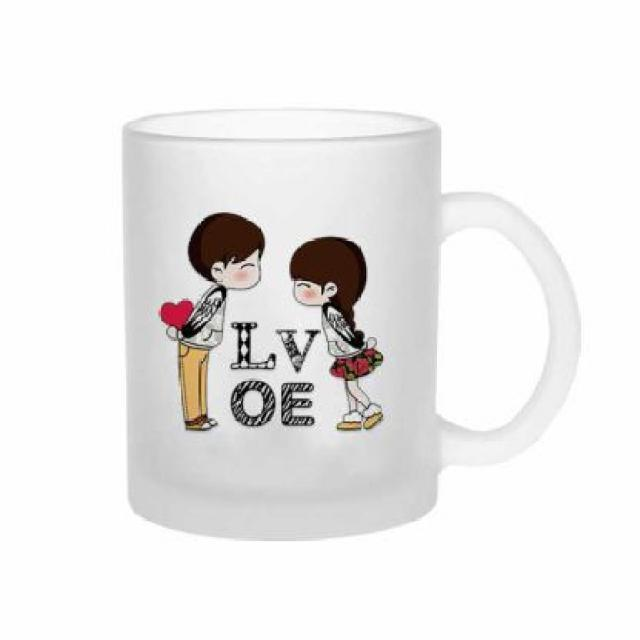taza: (118, 107, 580, 548)
